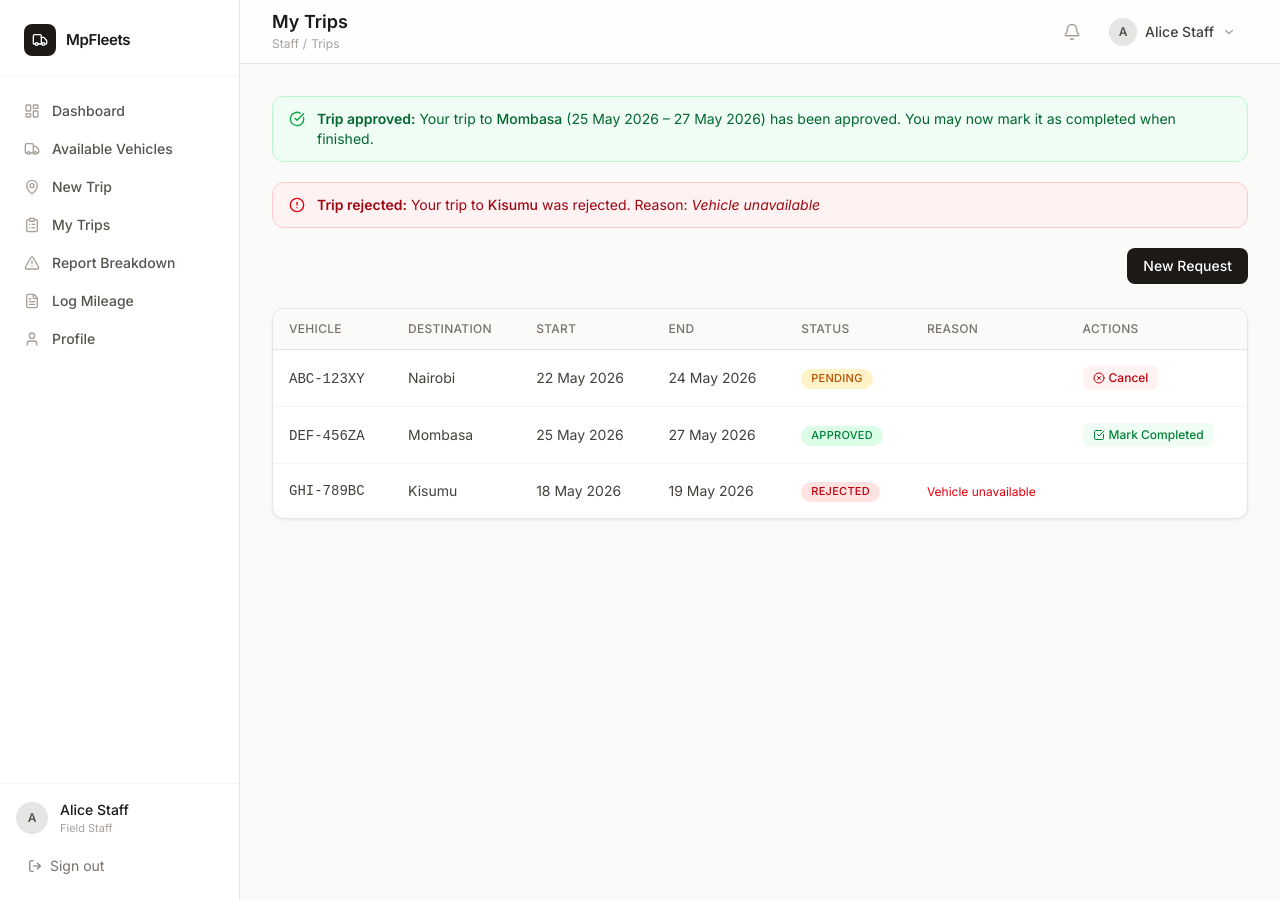
it: MyTripsPage — Mark Completed flow › opens the confirmation modal when Mark Completed is clicked
This screenshot has width=1280, height=900.
Click the button "Mark Completed": (1148, 435) top-left (1083, 423), bottom-right (1214, 447)
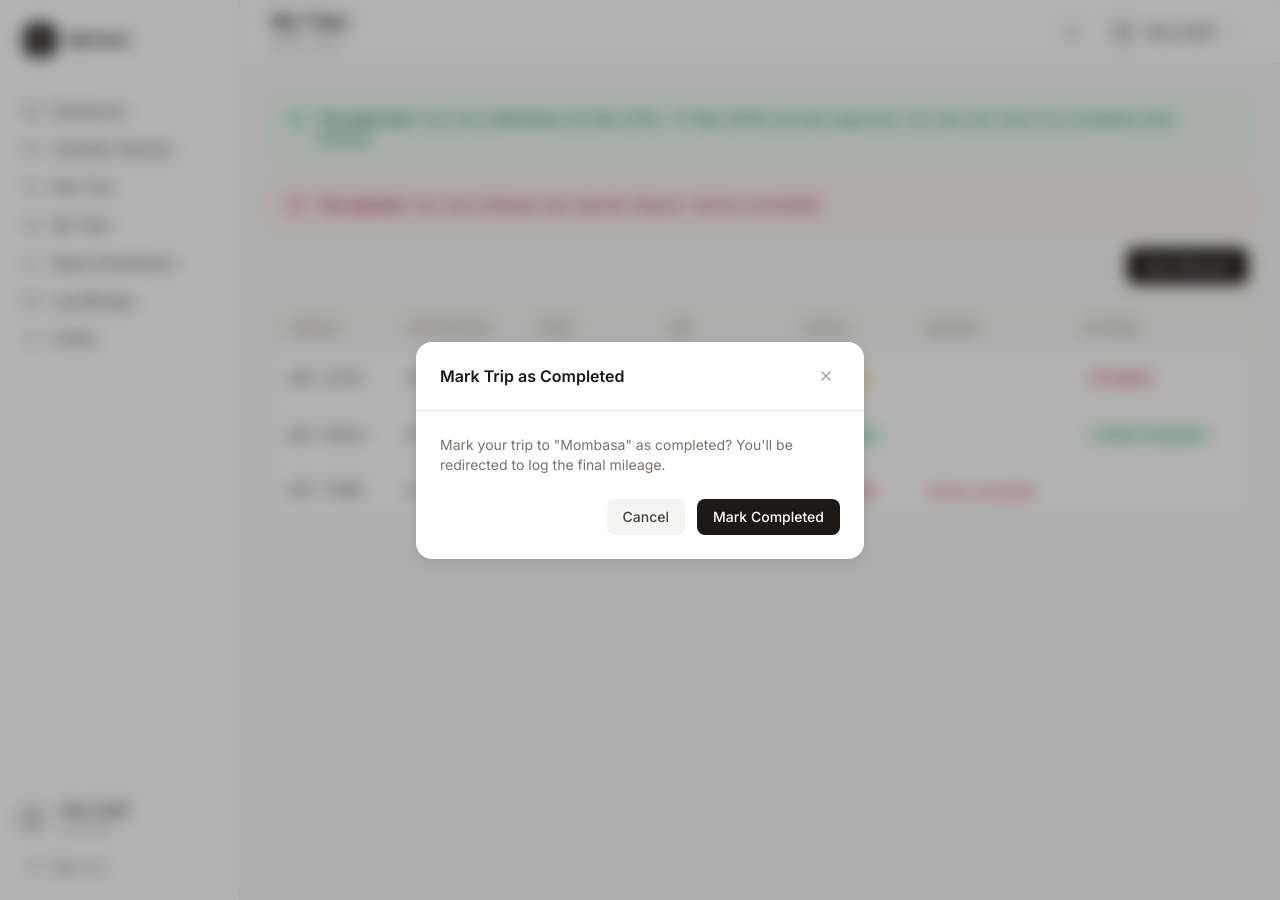
expect the heading "Mark Trip as Completed" is shown: met, box top-left (440, 364), bottom-right (624, 388)
